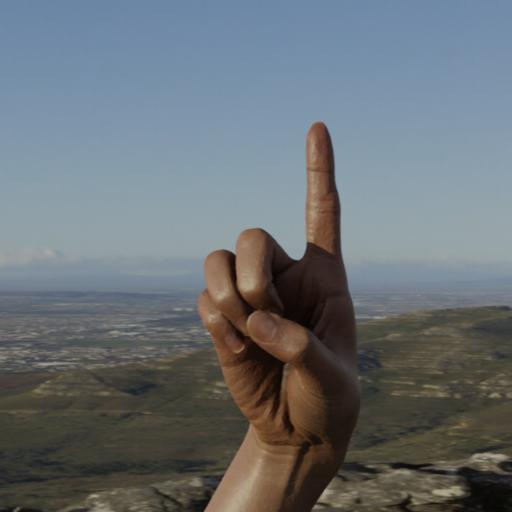D: (172, 116, 380, 472)
